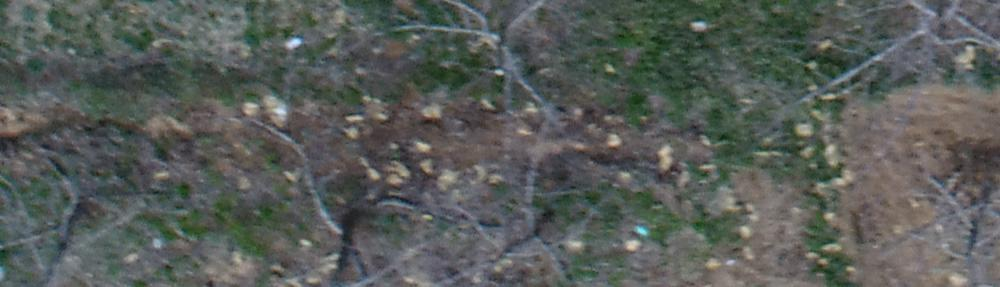apple: (244, 114, 436, 277), (395, 10, 616, 140), (838, 111, 990, 276)
